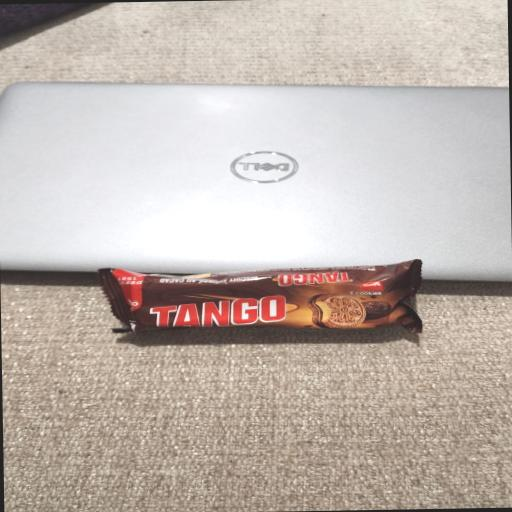tango: (68, 226, 469, 413)
